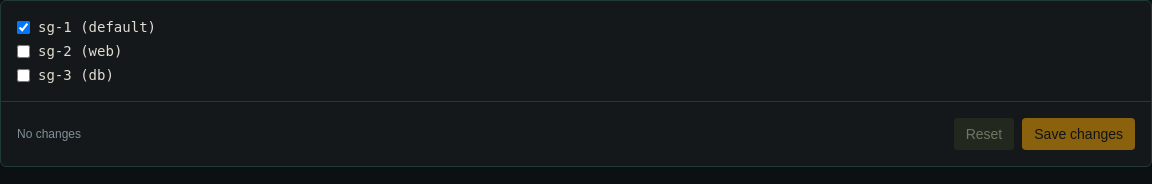
it: SecurityGroupsEditor › Reset reverts selection back to initial
The image size is (1152, 184).
Click the checkbox named "Security group sg-2 (web)" at (24, 51), box x1=17 y1=44 x2=30 y2=58
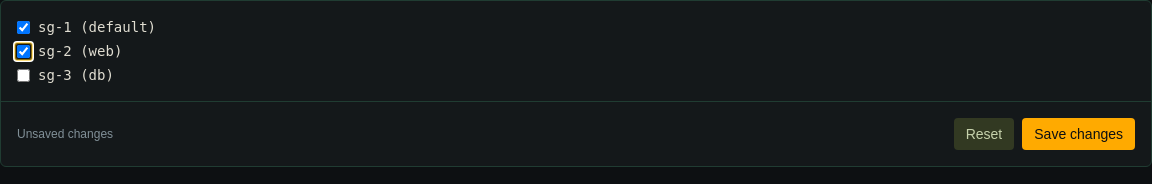
Expected: the text "Unsaved changes" is shown, x1=17 y1=126 x2=113 y2=142
Click the button "Reset" at (984, 134), box x1=954 y1=118 x2=1014 y2=150
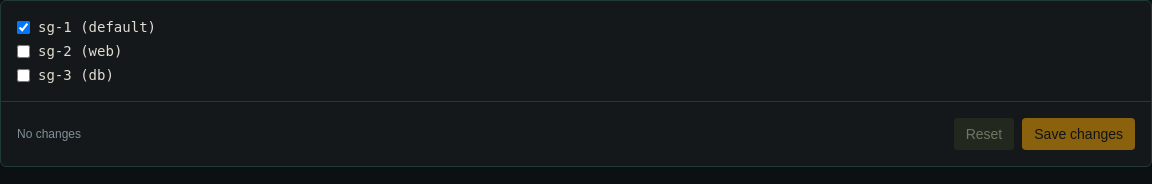
Expected: the checkbox named "Security group sg-2 (web)" is not checked, x1=17 y1=44 x2=30 y2=58
Expected: the text "No changes" is shown, x1=17 y1=126 x2=81 y2=142
